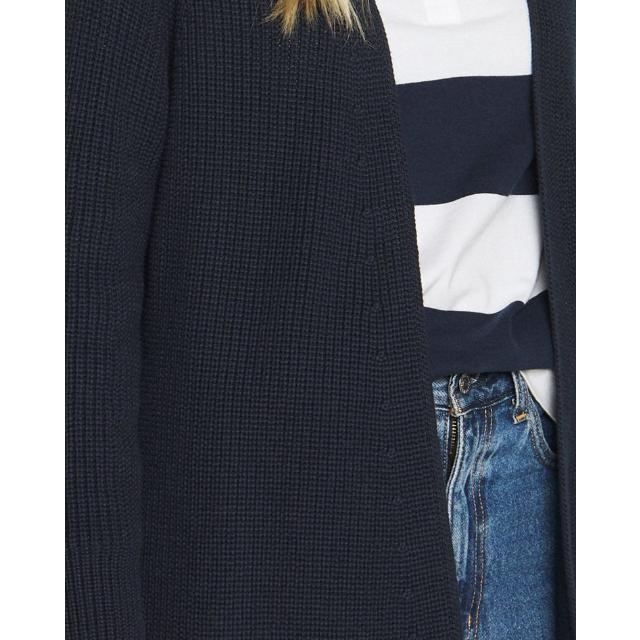denim: (427, 382, 573, 640)
